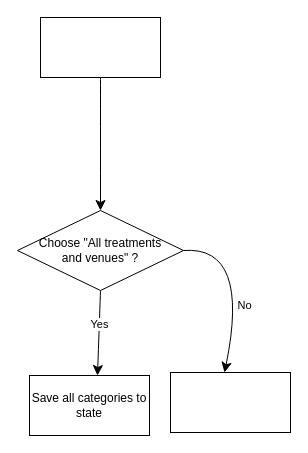
Some shapes in this 308 by 453 pixel diagram are drawn without their labels. The shapes that lost their labels are listed below. From the top down, each one's centre as x and y in pixels, then its label:
At point 100,47: "Search".
At point 230,402: "Save current category".
